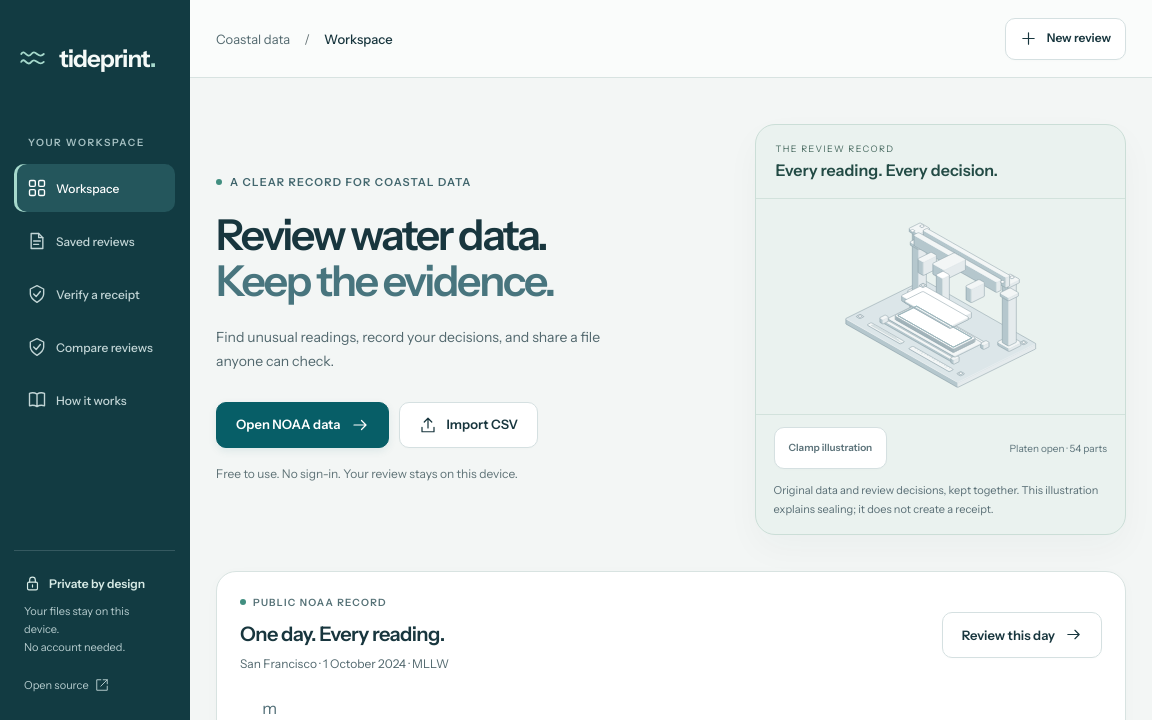
Test case: Anatomy press responds to a keyboard-accessible control and a real state readout
Step 1. Click the button "Clamp illustration" → (830, 448), box [774,428,887,470]
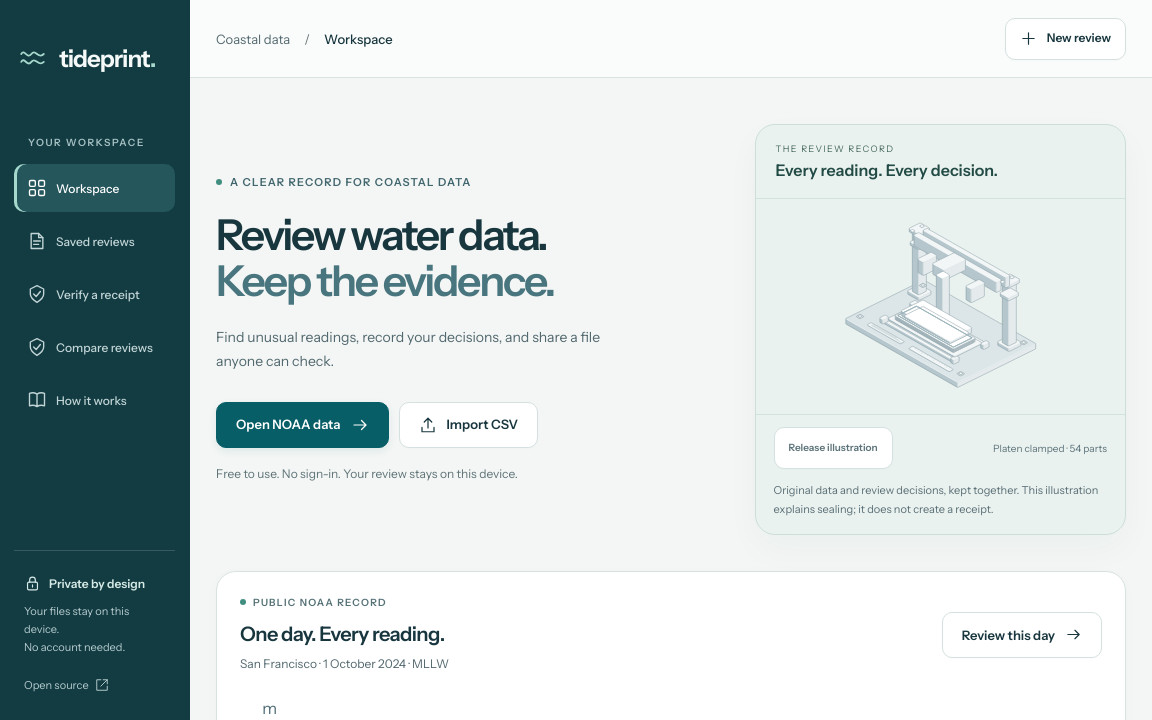
expect the text "Platen clamped · 54 parts" is shown: met, box [993,442,1107,455]
Step 2. Click the button "Release illustration" → (833, 448), box [774,428,892,470]
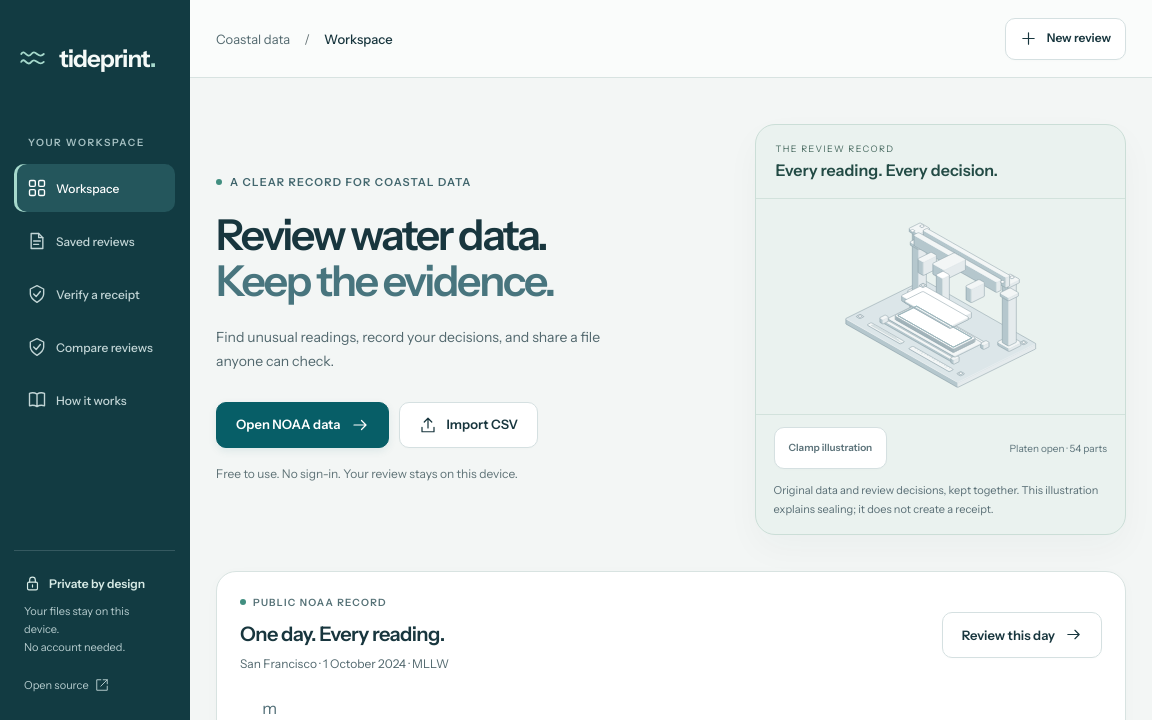
expect the text "Platen open · 54 parts" is shown: met, box [1010,442,1107,455]
